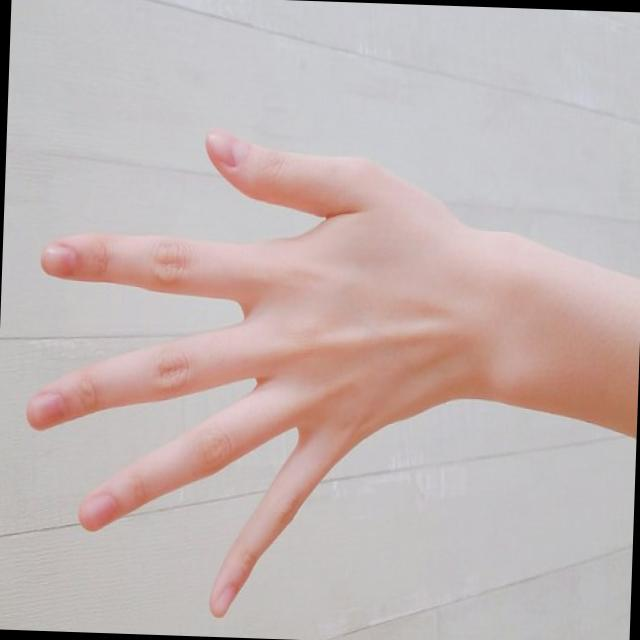Nail: (203, 128, 249, 166), (26, 390, 64, 430), (78, 492, 120, 528), (40, 241, 79, 276), (214, 585, 236, 618)
